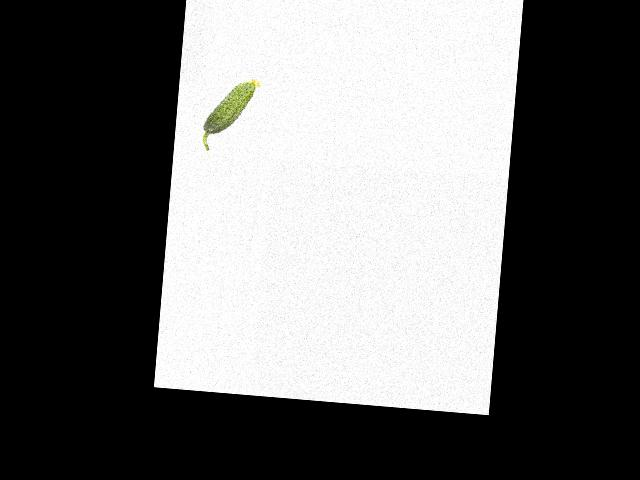cucumber: (201, 74, 261, 153)
